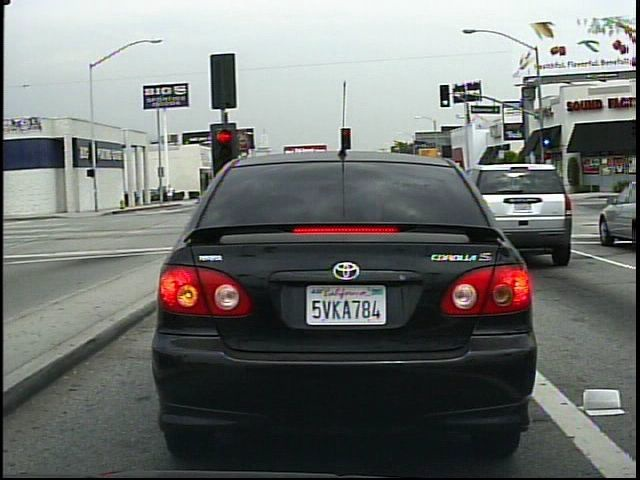person: (517, 166, 533, 198), (165, 182, 176, 206)
